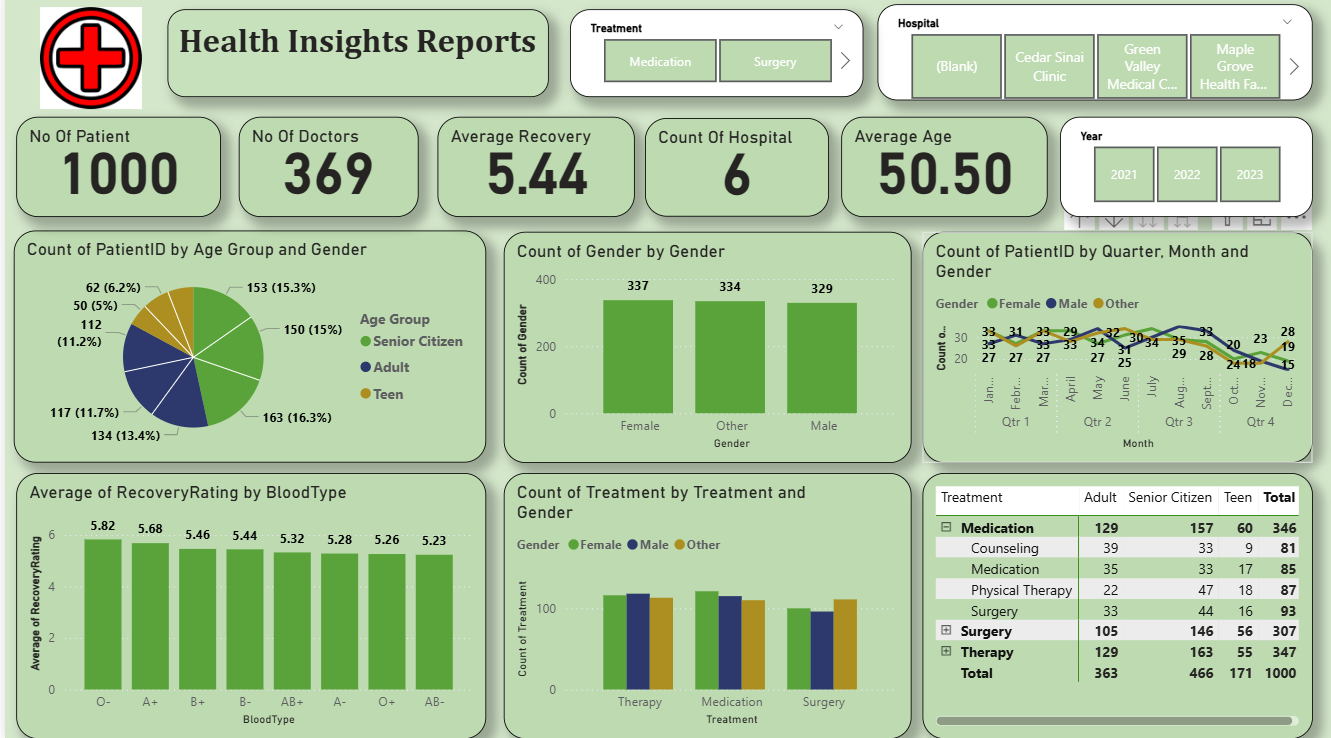

What the dashboard file says about the page in this screenshot:
{"tool":"powerbi","page":{"name":"Page 1","canvas":[1280,720],"ordinal":0},"visuals":[{"type":"textbox","box":[156.8,15.7,368,84.5],"z":0},{"type":"slicer","fields":{"Values":["Merge1.Hospital"]},"box":[842.1,10.9,419.8,92.9],"z":1000},{"type":"slicer","fields":{"Values":["Merge1.Treatment"]},"box":[545.3,15.7,283.5,84.5],"z":2000},{"type":"pieChart","fields":{"Category":["Merge1.Age Group"],"Y":["Merge1.PatientID"],"Series":["Merge1.Gender"]},"box":[8.4,229.2,456,224.4],"z":3000},{"type":"card","title":"No Of Patient","fields":{"Values":["Merge1.DoctorName"]},"box":[10.9,119.4,197.9,96.5],"z":4000},{"type":"card","title":"No Of Doctors","fields":{"Values":["Merge1.PatientName"]},"box":[225.6,119.4,173.7,96.5],"z":5000},{"type":"card","title":"Average Recovery","fields":{"Values":["Merge1.RecoveryRating"]},"box":[417.4,119.4,190.6,96.5],"z":6000},{"type":"card","title":"Count Of Hospital","fields":{"Values":["Merge1.Hospital"]},"box":[617.7,120.6,177.3,95.3],"z":7000},{"type":"card","title":"Average Age","fields":{"Values":["Merge1.Age"]},"box":[807.1,119.4,199.1,96.5],"z":8000},{"type":"columnChart","fields":{"Y":["Merge1.RecoveryRating"],"Category":["Merge1.BloodType"]},"box":[10.9,463.3,453.6,257],"z":9000},{"type":"columnChart","fields":{"Category":["Merge1.Gender"],"Y":["Merge1.Gender"]},"box":[481.4,230.4,393.3,223.2],"z":10000},{"type":"clusteredColumnChart","fields":{"Y":["Merge1.Treatment"],"Category":["Merge1.Treatment"],"Series":["Merge1.Gender"]},"box":[481.4,463.3,393.3,257],"z":11000},{"type":"lineChart","fields":{"Category":["Merge1.AdmissionDate.Variation.Date Hierarchy.Quarter","Merge1.AdmissionDate.Variation.Date Hierarchy.Month"],"Series":["Merge1.Gender"],"Y":["Merge1.PatientID"]},"box":[885.5,230.4,376.4,223.2],"z":12000},{"type":"slicer","fields":{"Values":["Merge1.AdmissionDate.Variation.Date Hierarchy.Year"]},"box":[1018.2,119.4,243.7,96.5],"z":13000},{"type":"pivotTable","fields":{"Rows":["Merge1.Treatment","Merge1.TreatmentType"],"Columns":["Merge1.Age Group"],"Values":["Merge1.PatientID"]},"box":[885.5,463.3,376.4,257],"z":14000},{"type":"image","box":[29,4.8,108.6,115.8],"z":15000}]}

Visuals, with their boxes in screenshot pixels (x1, y1, x2, y2), scaled from the page's 1280x720 canvas onto the 1331x738 screenshot:
textbox: x1=163 y1=16 x2=546 y2=103
slicer - Merge1.Hospital: x1=876 y1=11 x2=1312 y2=106
slicer - Merge1.Treatment: x1=567 y1=16 x2=862 y2=103
pieChart - Merge1.Age Group x Merge1.PatientID: x1=9 y1=235 x2=483 y2=465
"No Of Patient" card: x1=11 y1=122 x2=217 y2=221
"No Of Doctors" card: x1=235 y1=122 x2=415 y2=221
"Average Recovery" card: x1=434 y1=122 x2=632 y2=221
"Count Of Hospital" card: x1=642 y1=124 x2=827 y2=221
"Average Age" card: x1=839 y1=122 x2=1046 y2=221
columnChart - Merge1.RecoveryRating x Merge1.BloodType: x1=11 y1=475 x2=483 y2=737
columnChart - Merge1.Gender x Merge1.Gender: x1=501 y1=236 x2=910 y2=465
clusteredColumnChart - Merge1.Treatment x Merge1.Treatment: x1=501 y1=475 x2=910 y2=737
lineChart - Merge1.AdmissionDate.Variation.Date Hierarchy.Quarter x Merge1.AdmissionDate.Variation.Date Hierarchy.Month: x1=921 y1=236 x2=1312 y2=465
slicer - Merge1.AdmissionDate.Variation.Date Hierarchy.Year: x1=1059 y1=122 x2=1312 y2=221
pivotTable - Merge1.Treatment x Merge1.TreatmentType: x1=921 y1=475 x2=1312 y2=737
image: x1=30 y1=5 x2=143 y2=124
